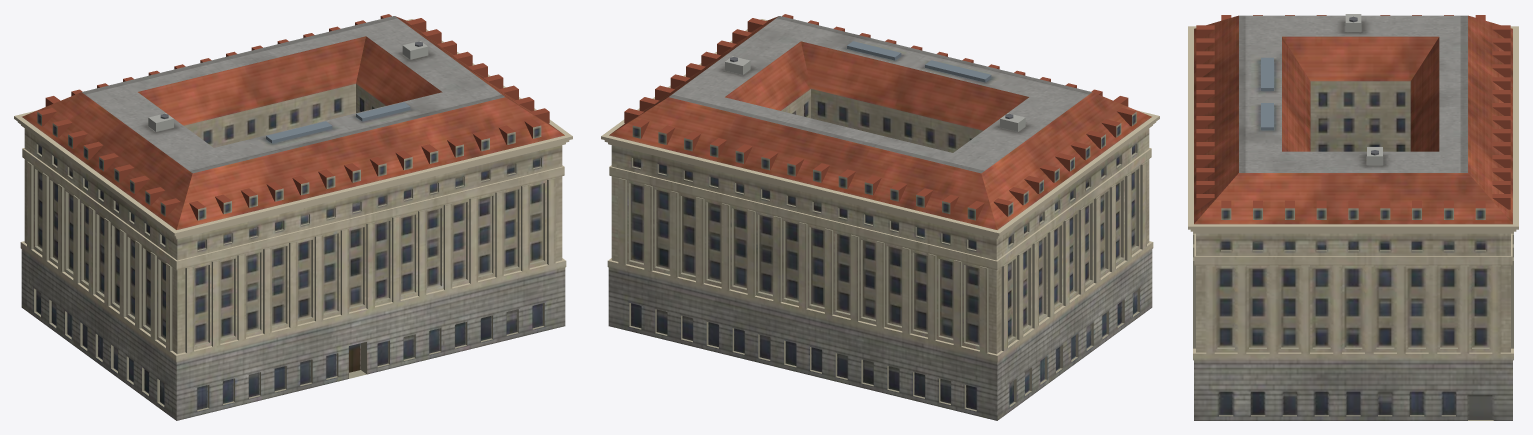
Rendered from dc_fedtri_b.glb.
The picture shows the model from 3 angles, left to right: view 1: azimuth 30°, elevation 25°; view 2: azimuth 150°, elevation 25°; view 3: azimuth 270°, elevation 25°; orthographic projection. The views are drawn at different scales.
Visible parts, largest first — view 1: dc_fedtri_b; view 2: dc_fedtri_b; view 3: dc_fedtri_b.
Part boxes in pixels (<box>): dc_fedtri_b: <box>14,14,572,420</box>; dc_fedtri_b: <box>601,14,1159,420</box>; dc_fedtri_b: <box>1188,14,1518,420</box>.
Bounding box in the file's own units: 66.2 × 36.95 × 46.2.
Materials: 1 (1 with a texture image).
